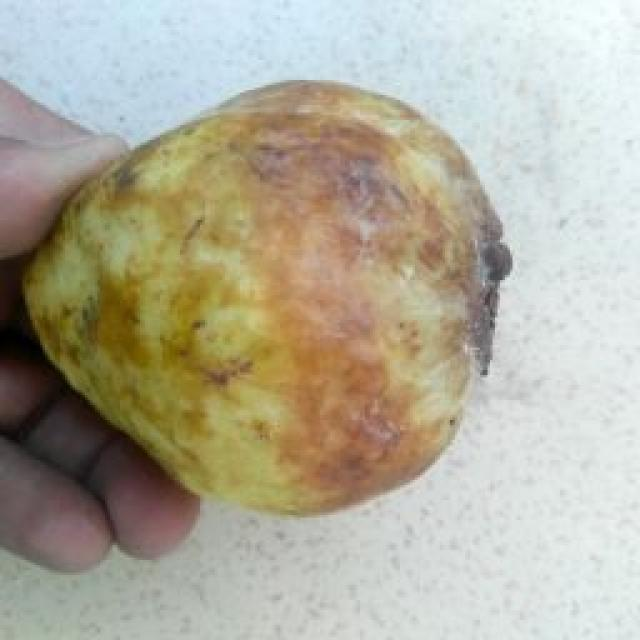Bad_Guava: (24, 81, 511, 513)
